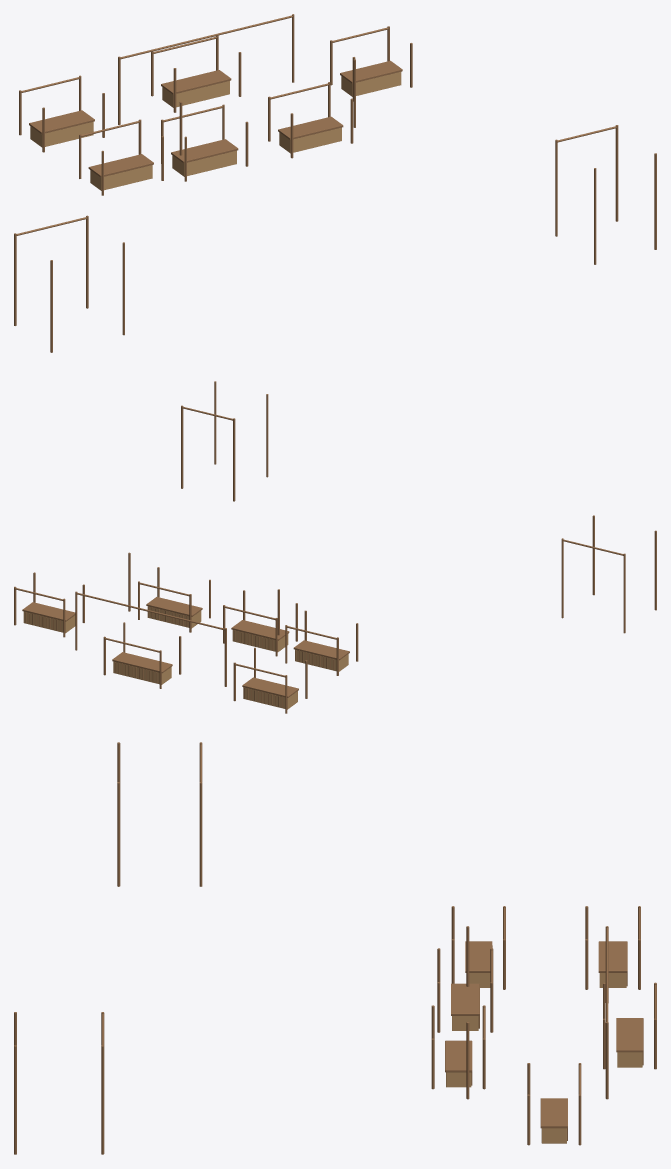
The model's file is SM_MarketTimberAndStalls.fbx.
3 views of the same model, one above another, from view 1: azimuth 30°, elevation 25°; view 2: azimuth 150°, elevation 25°; view 3: azimuth 270°, elevation 25° (orthographic). The views are drawn at different scales.
Parts seen in each view (by area): view 1: SM_MarketTimberAndStalls_Export; view 2: SM_MarketTimberAndStalls_Export; view 3: SM_MarketTimberAndStalls_Export.
Part boxes in pixels (x1,y1,x2,y2): SM_MarketTimberAndStalls_Export: [14, 14, 656, 352]; SM_MarketTimberAndStalls_Export: [14, 381, 656, 713]; SM_MarketTimberAndStalls_Export: [14, 742, 656, 1154].
Bounding box in the file's own units: 4353 × 3830 × 719.
